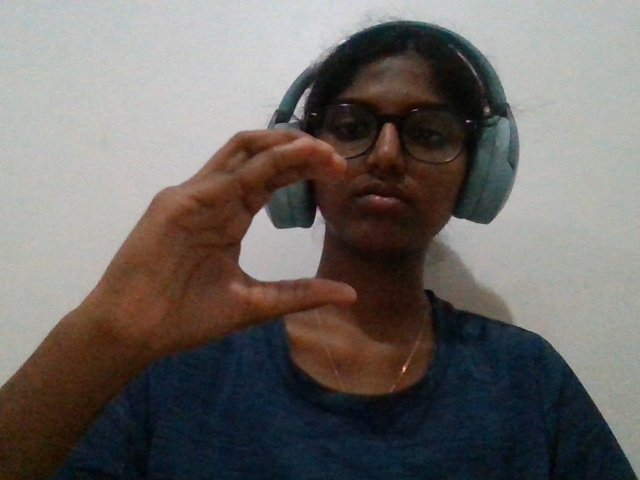C: (42, 98, 388, 422)
